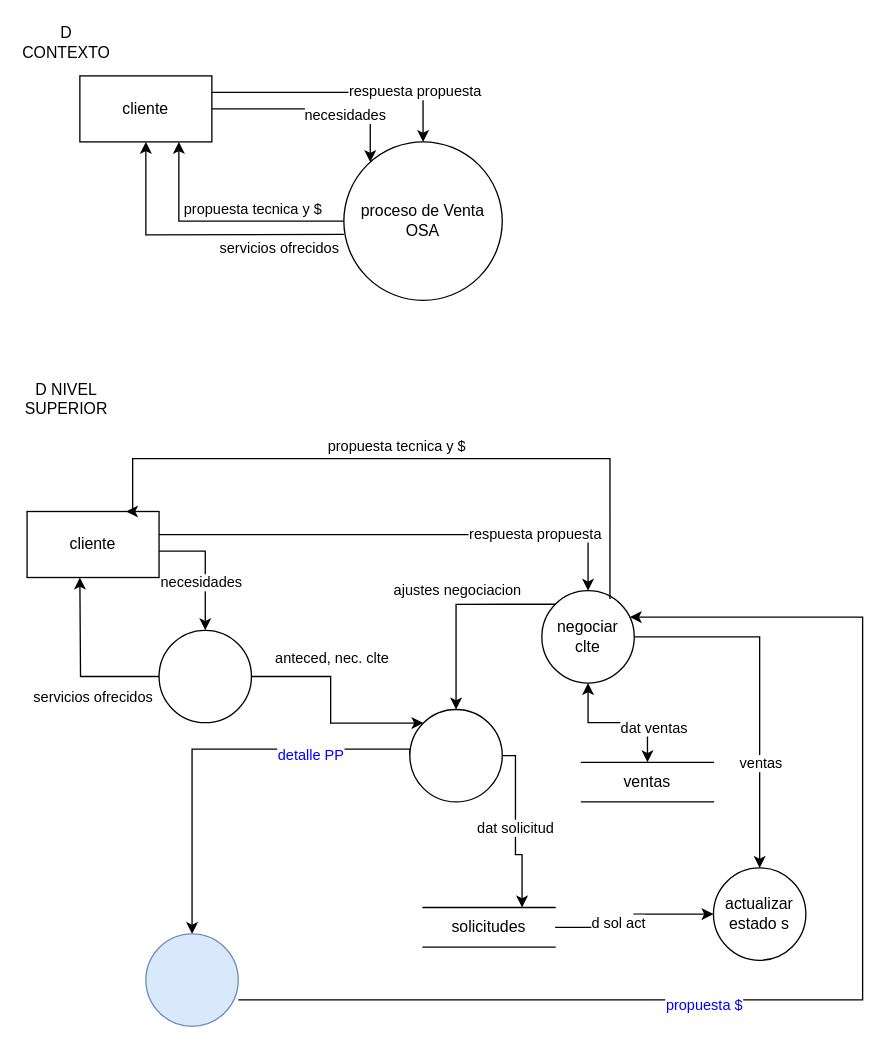
This 896x1049 diagram has some shape labels left out. Each missing label, with the centre of its shape:
"elaborar pp tecnica" belongs at point (455, 755).
"estimar costos PP" belongs at point (191, 979).
"recopilar Necesidades" belongs at point (204, 676).
